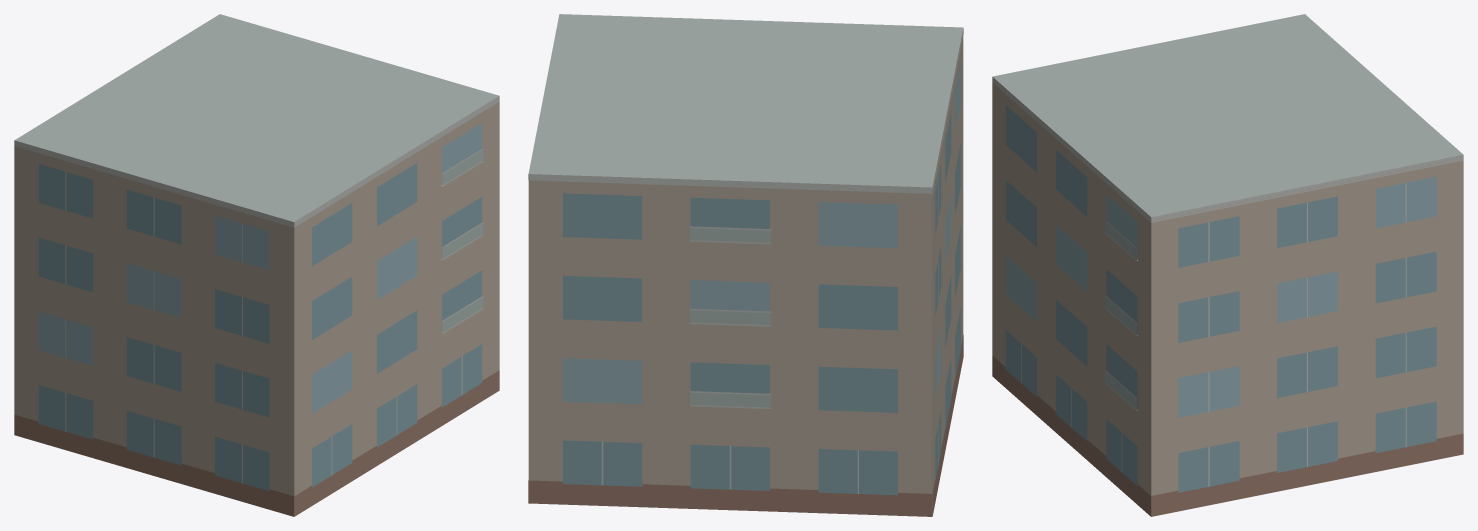
Rendered from survey-upis-32739177.glb.
The picture shows the model from 3 angles, left to right: view 1: azimuth 30°, elevation 25°; view 2: azimuth 150°, elevation 25°; view 3: azimuth 270°, elevation 25°; orthographic projection. The views are drawn at different scales.
Visible parts, largest first — view 1: survey-upis-32739177.tmp; view 2: survey-upis-32739177.tmp; view 3: survey-upis-32739177.tmp.
Part boxes in pixels (bbox=[...]): survey-upis-32739177.tmp: bbox=[14, 14, 499, 516]; survey-upis-32739177.tmp: bbox=[528, 14, 963, 516]; survey-upis-32739177.tmp: bbox=[992, 14, 1463, 516].
Size of the model in its own units: 18.26 by 12.55 by 17.9.
